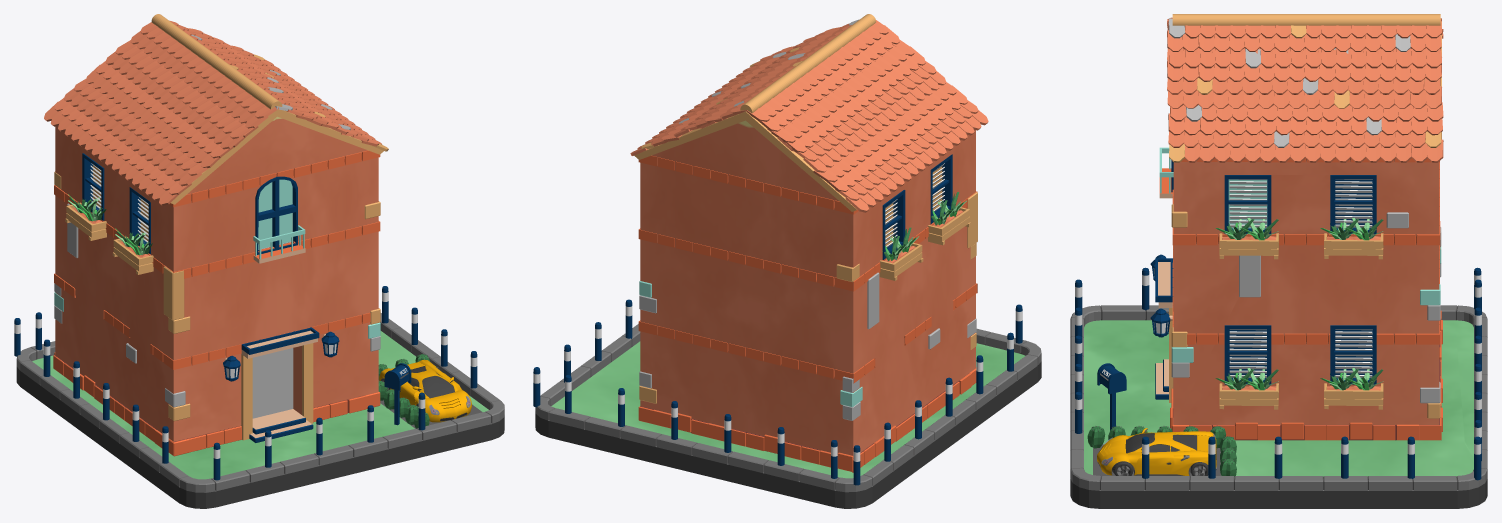
Rendered from lv2_house_6.fbx.
The picture shows the model from 3 angles, left to right: view 1: azimuth 30°, elevation 25°; view 2: azimuth 150°, elevation 25°; view 3: azimuth 270°, elevation 25°; orthographic projection. The views are drawn at different scales.
Parts seen in each view (by area): view 1: lv2_house_6, basehouse_lv2_6, lv2_car_6, lv2_house_cactus_6, lv2_house_post_6; view 2: lv2_house_6, basehouse_lv2_6; view 3: lv2_house_6, basehouse_lv2_6, lv2_car_6, lv2_house_cactus_6, lv2_house_post_6.
Part boxes in pixels (box(x1,y1,x2,y2)): lv2_house_6: box(44, 14, 388, 456); basehouse_lv2_6: box(14, 286, 504, 508); lv2_car_6: box(379, 359, 471, 422); lv2_house_cactus_6: box(378, 354, 429, 428); lv2_house_post_6: box(384, 363, 411, 425); lv2_house_6: box(630, 14, 988, 472); basehouse_lv2_6: box(533, 299, 1041, 508); lv2_house_6: box(1150, 14, 1443, 440); basehouse_lv2_6: box(1070, 267, 1487, 508); lv2_car_6: box(1097, 428, 1216, 476); lv2_house_cactus_6: box(1087, 425, 1236, 476); lv2_house_post_6: box(1097, 363, 1126, 430).
Bounding box in the file's own units: 2513 × 2585 × 2513.
